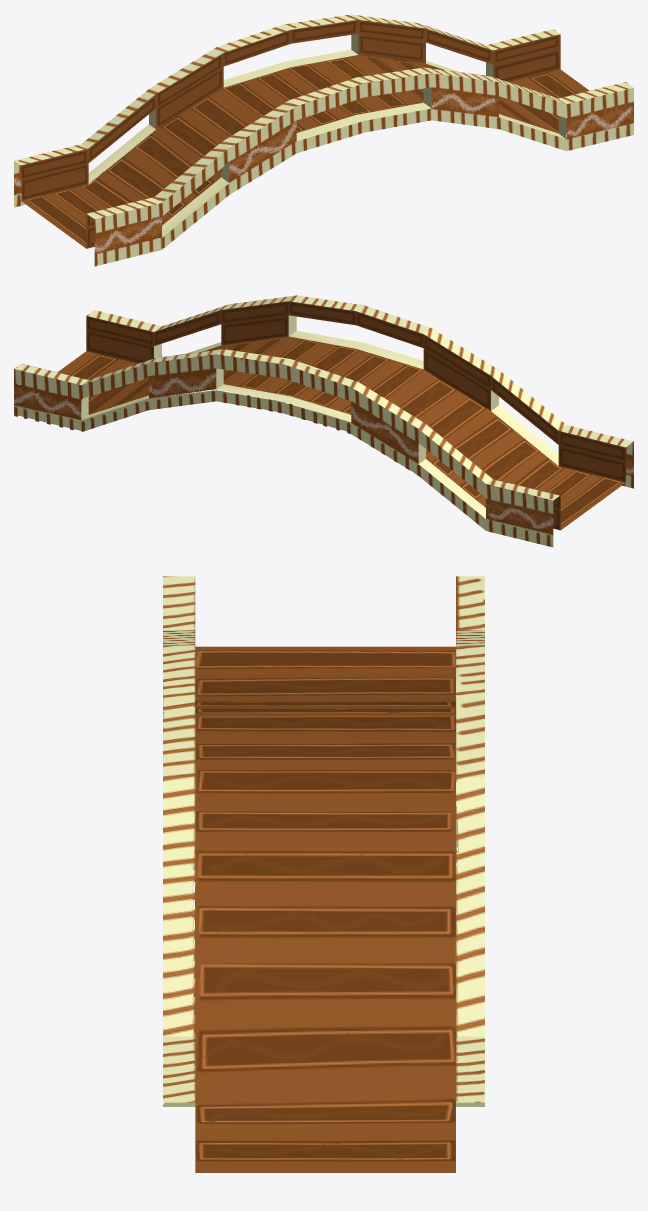
The model's file is Puente.fbx.
3 renders of one model, top to bottom at view 1: azimuth 30°, elevation 25°; view 2: azimuth 150°, elevation 25°; view 3: azimuth 270°, elevation 25°, orthographic. The views are drawn at different scales.
Parts seen in each view (by area): view 1: pCube10; view 2: pCube10; view 3: pCube10.
Part boxes in pixels (left/top/right/bottom): pCube10: left=14, top=14, right=633, bottom=266; pCube10: left=14, top=295, right=633, bottom=547; pCube10: left=163, top=576, right=484, bottom=1172.
Bounding box in the file's own units: 191 × 39.66 × 49.28.
1 material, 1 textured.
